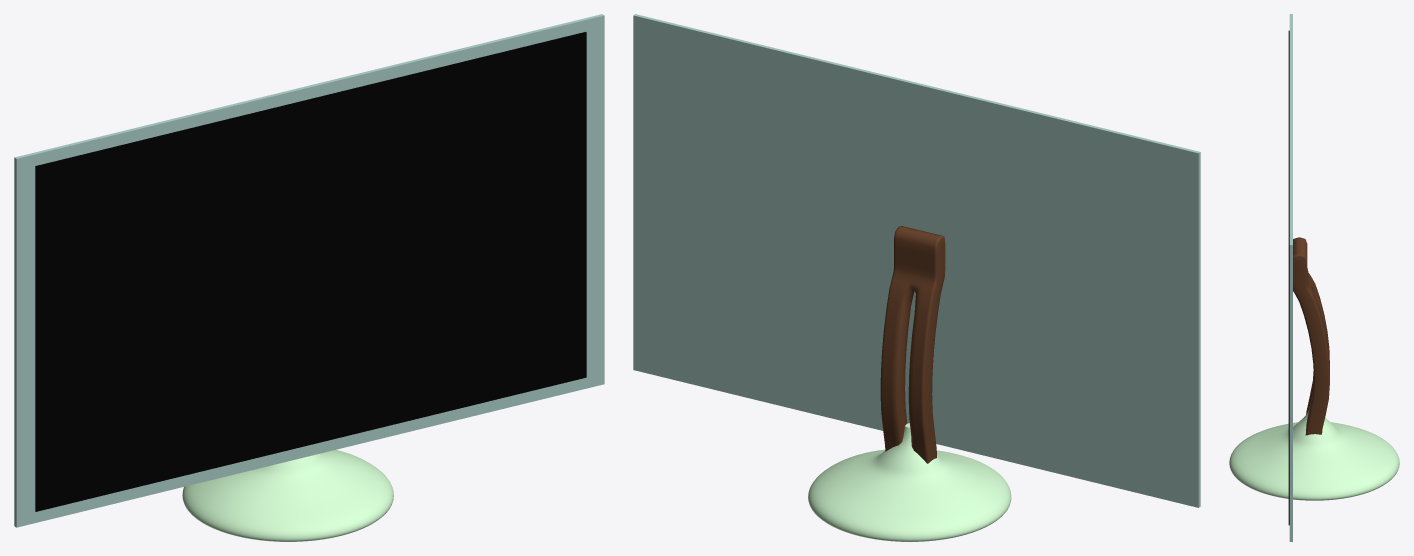
3 renders of one model, left to right at view 1: azimuth 30°, elevation 25°; view 2: azimuth 150°, elevation 25°; view 3: azimuth 270°, elevation 25°, orthographic. The views are drawn at different scales.
Parts seen in each view (by area): view 1: pantalla, soporte_pantalla, base_televisor; view 2: soporte_pantalla, base_televisor, soporte_televisor; view 3: base_televisor, soporte_televisor, soporte_pantalla, pantalla.
Part boxes in pixels (x1,y1,x2,y2): pantalla: (35,32,586,511); soporte_pantalla: (14,14,604,527); base_televisor: (182,450,393,541); soporte_pantalla: (633,14,1200,507); base_televisor: (808,423,1011,541); soporte_televisor: (880,226,945,463); base_televisor: (1229,407,1399,500); soporte_televisor: (1293,237,1329,435); soporte_pantalla: (1289,14,1292,541); pantalla: (1288,30,1289,525).
Bounding box in the file's own units: 0.9059 × 0.2823 × 0.6203.
